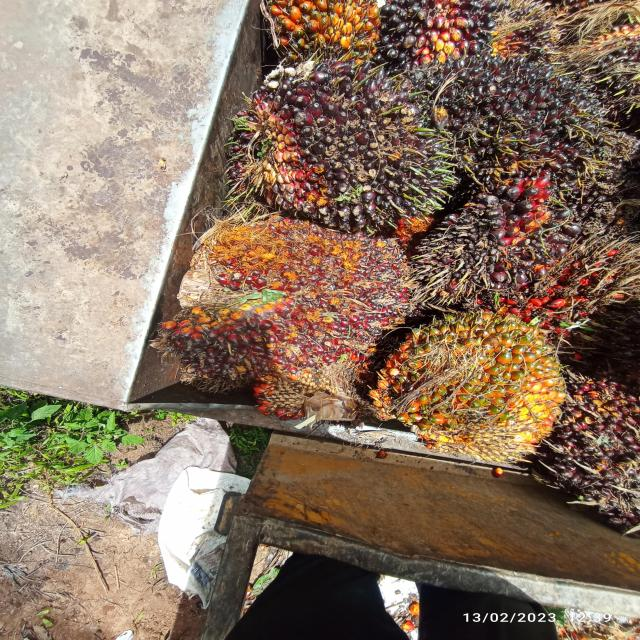fraksi 1: (246, 70, 450, 232), (444, 41, 619, 192), (421, 158, 585, 315), (148, 304, 284, 387)
fraksi 3: (193, 217, 408, 378)
